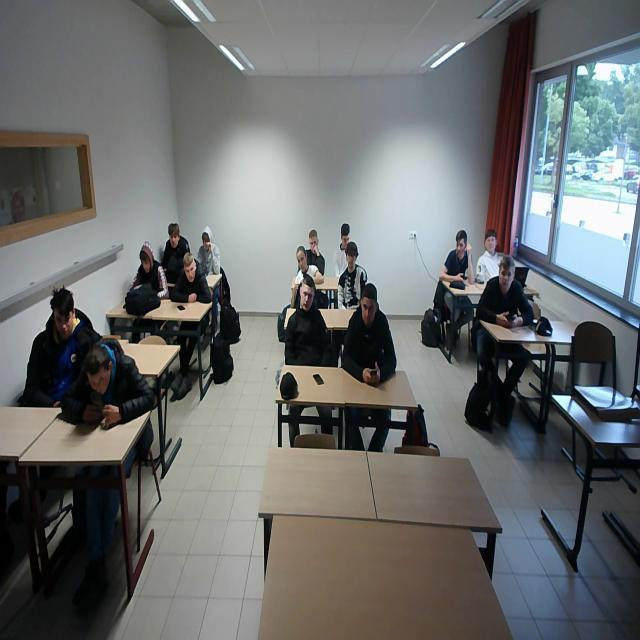Looking away: (54, 310, 74, 336), (140, 258, 150, 273), (342, 236, 350, 250)
Looking forward: (300, 286, 314, 312), (184, 266, 196, 282), (297, 253, 307, 272), (309, 237, 319, 253), (170, 234, 180, 248), (486, 237, 496, 251), (346, 254, 356, 267)
Phone use: (58, 338, 158, 432), (341, 280, 406, 390), (478, 253, 537, 328), (440, 230, 474, 290)
